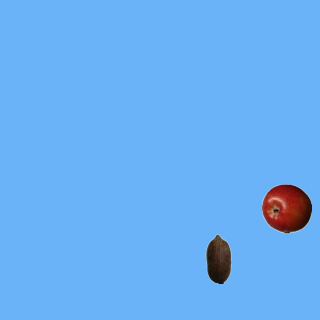Apple Braeburn: (261, 183, 311, 233)
Nut Pecan: (193, 233, 243, 283)
